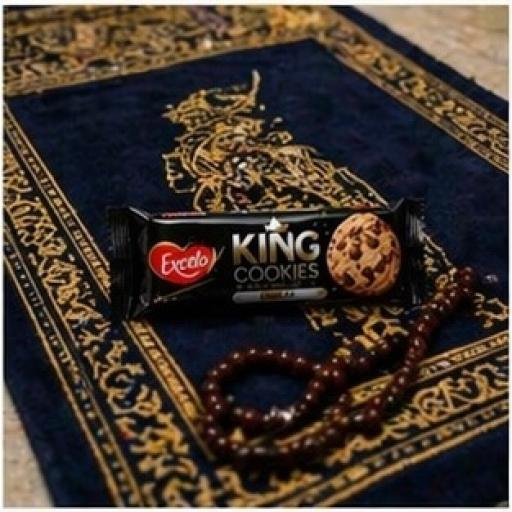king-cooking: (93, 149, 488, 403)
